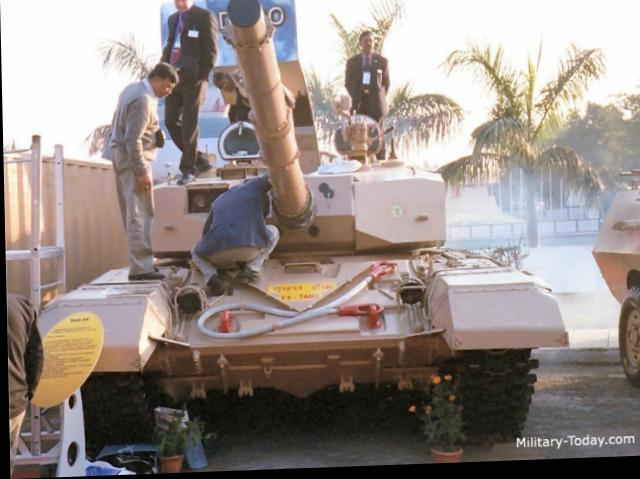other: (111, 61, 181, 278), (191, 171, 276, 297), (162, 0, 218, 159), (338, 33, 394, 138)
tank: (53, 150, 543, 452)
